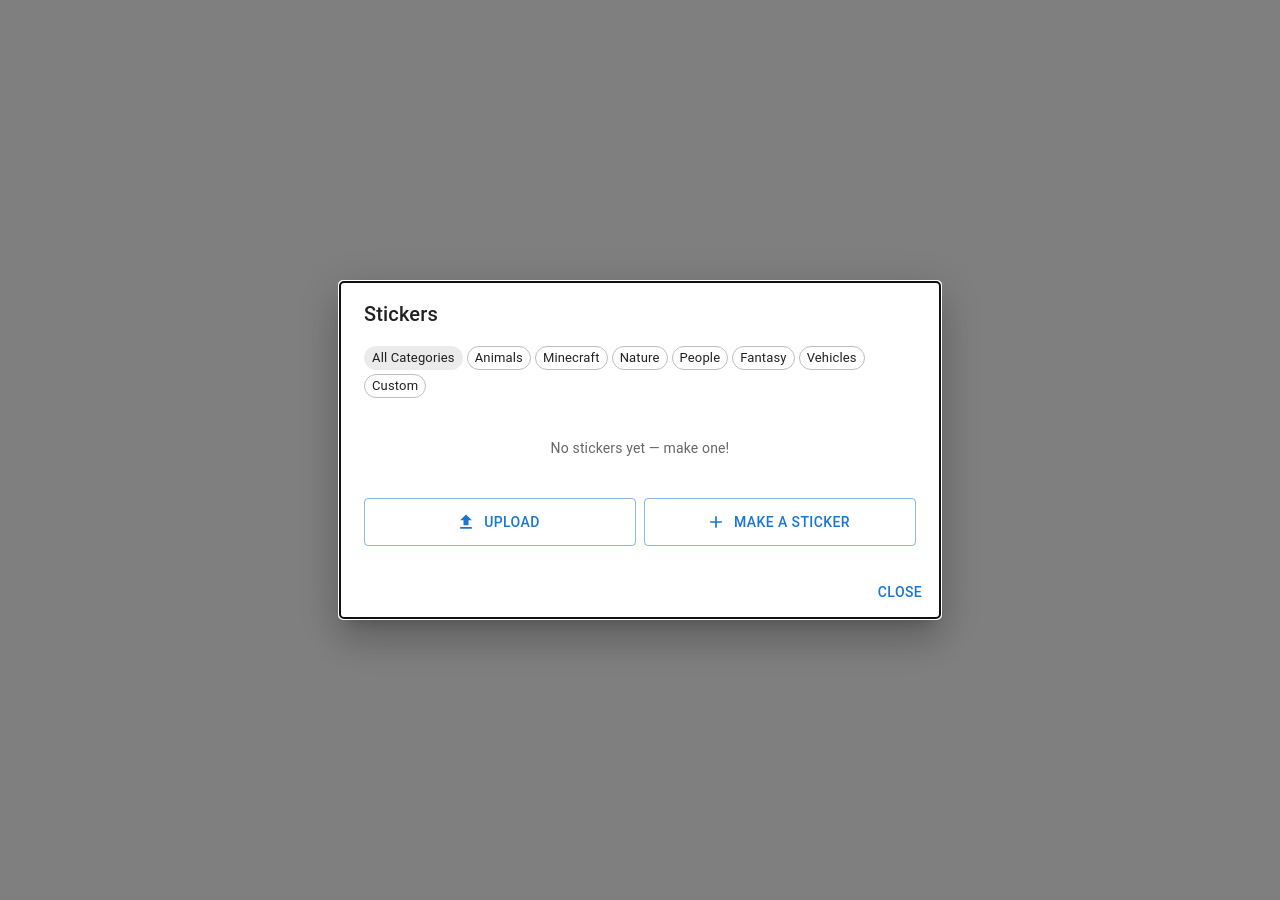
UX-147 — the picker's Make a Sticker door › gives a kid the kid wording, on capability and never a name
The image size is (1280, 900).
Click the button "Make a sticker" at coordinates (780, 522), box [644,498,916,546]
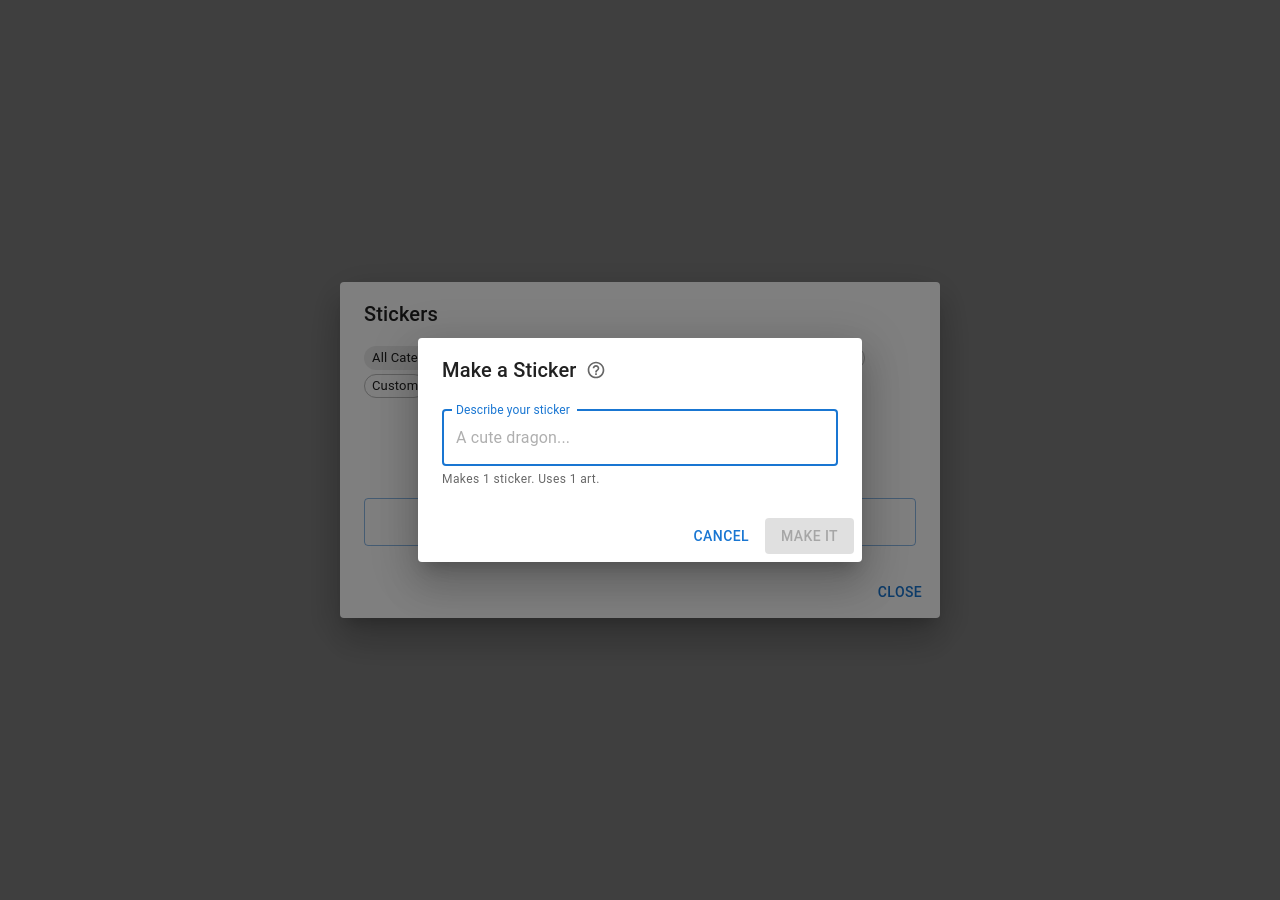
Expected: the text "Makes 1 sticker. Uses 1 art." is shown, [442,472,600,486]
